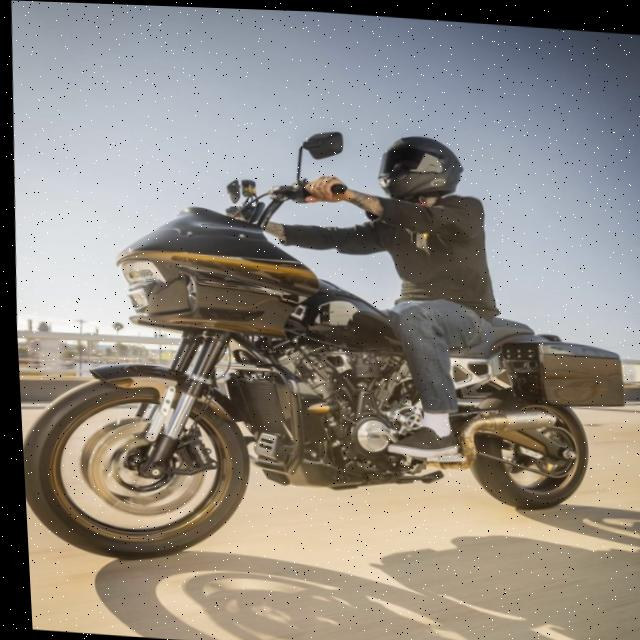helmet: (369, 128, 466, 203)
